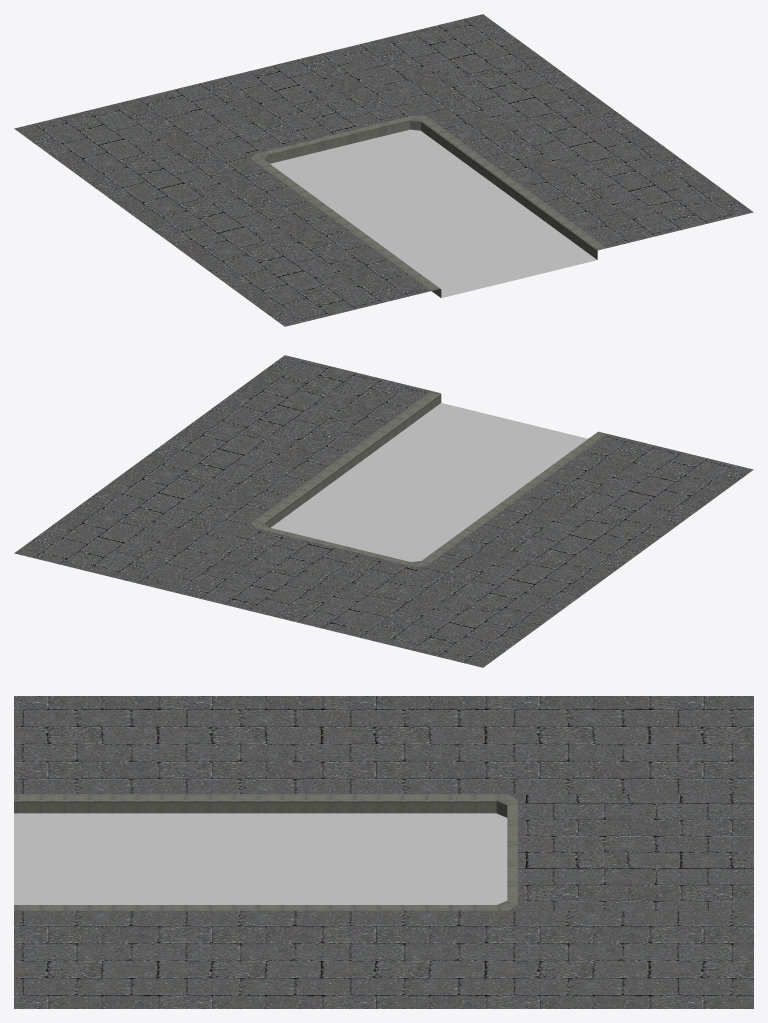
File: CT_Road_Lane_End_01.fbx
3 views of the same model, one above another, from view 1: azimuth 30°, elevation 25°; view 2: azimuth 150°, elevation 25°; view 3: azimuth 270°, elevation 25° (orthographic). The views are drawn at different scales.
Visible parts, largest first — view 1: CT_Road_Lane_End_01; view 2: CT_Road_Lane_End_01; view 3: CT_Road_Lane_End_01.
Boxes of the visible parts, x1=… form: CT_Road_Lane_End_01: x1=14, y1=14, x2=753, y2=326; CT_Road_Lane_End_01: x1=14, y1=355, x2=753, y2=667; CT_Road_Lane_End_01: x1=14, y1=696, x2=753, y2=1008.
Bounding box in the file's own units: 768 × 15 × 768.
